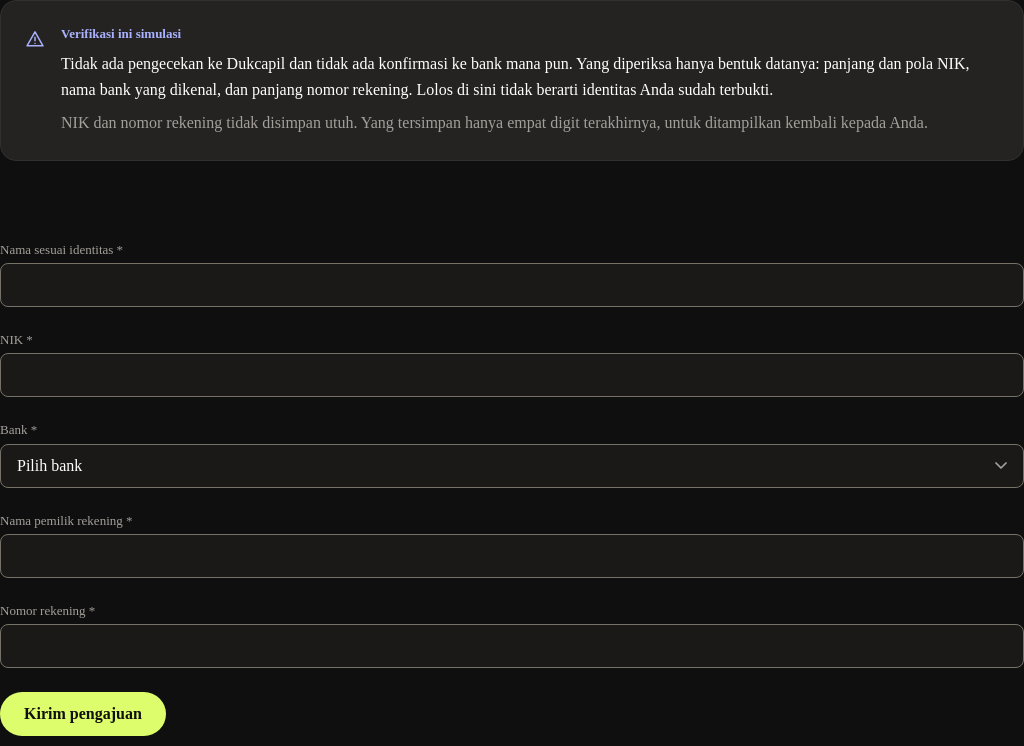
kyc form submission › replaces the form with the summary of what was just recorded
Type "Nama Pemilik Akun" into the field labelled "Nama sesuai identitas *" at {"x": 512, "y": 285}, box x1=0 y1=263 x2=1023 y2=307
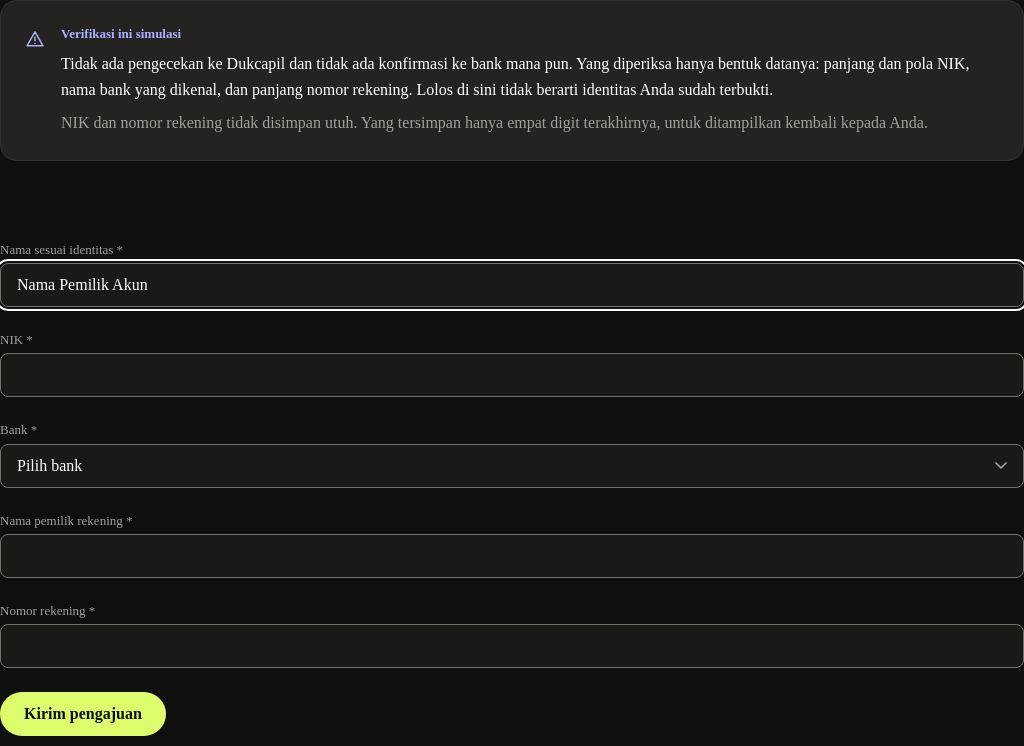
Type "3201234567890123" into the field labelled "NIK *" at {"x": 512, "y": 375}, box x1=0 y1=353 x2=1023 y2=397
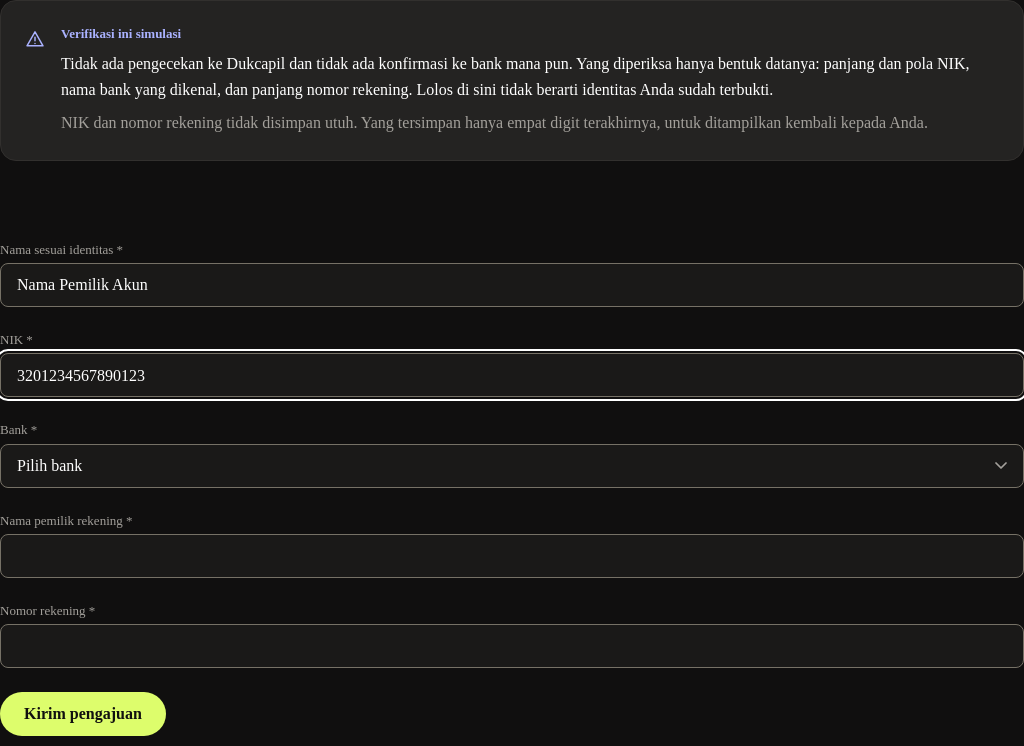
Select "BCA" in the dropdown labelled "Bank *" at {"x": 512, "y": 466}, box x1=0 y1=444 x2=1023 y2=488
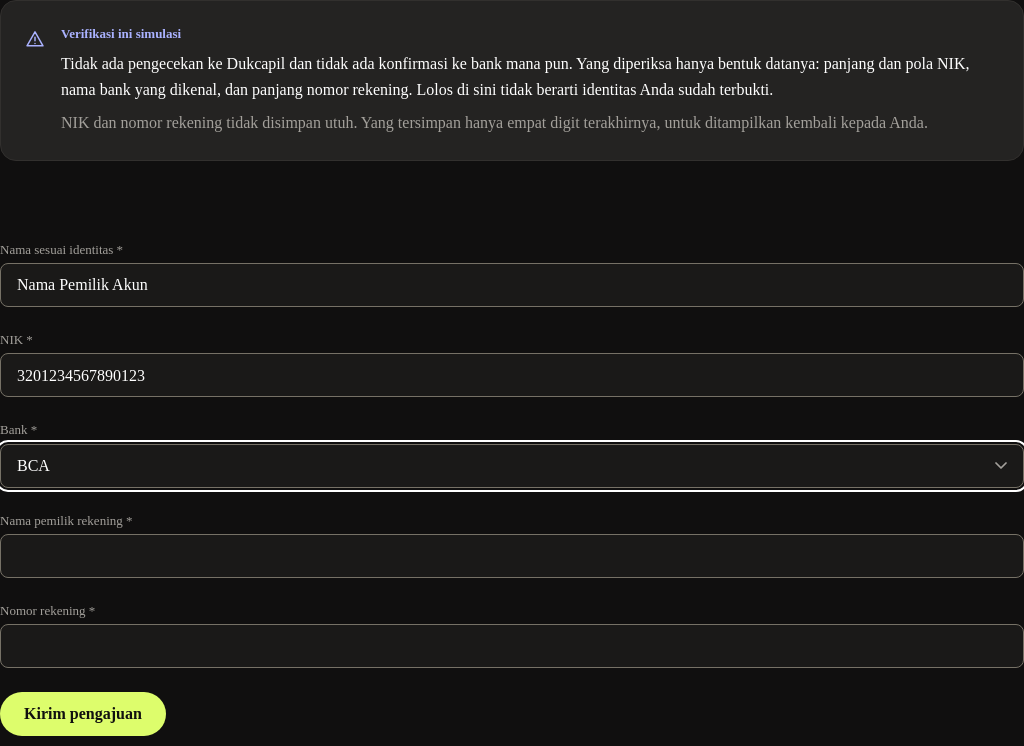
Type "Nama Pemilik Rekening" into the field labelled "Nama pemilik rekening *" at {"x": 512, "y": 556}, box x1=0 y1=534 x2=1023 y2=578
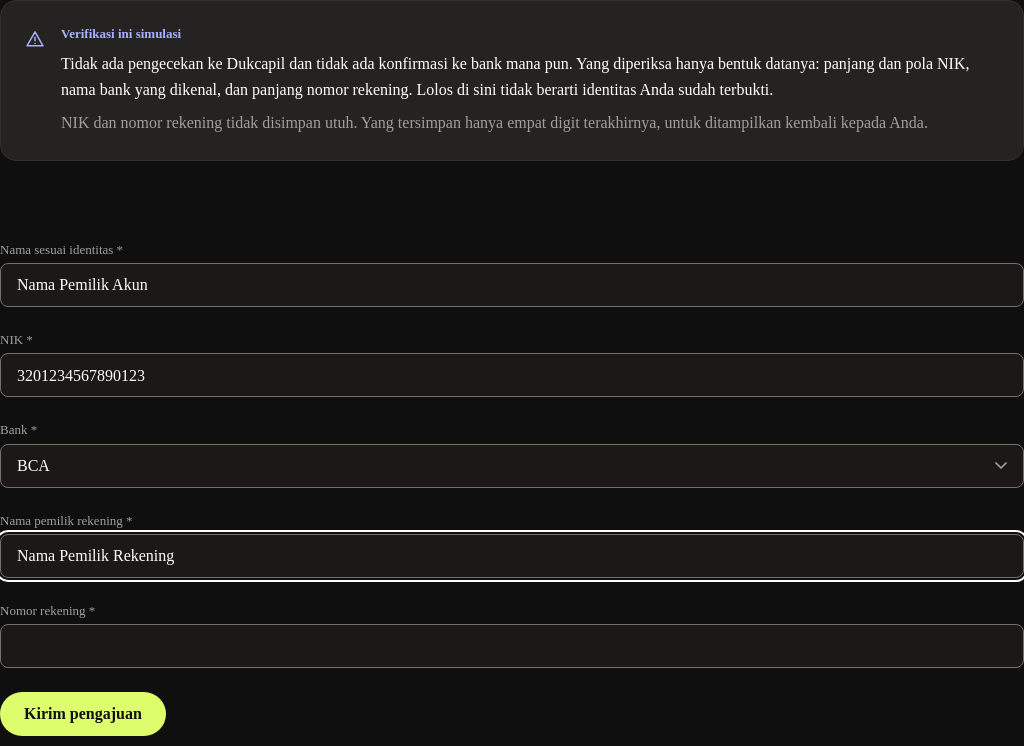
Type "1234567890" into the field labelled "Nomor rekening *" at {"x": 512, "y": 646}, box x1=0 y1=624 x2=1023 y2=668
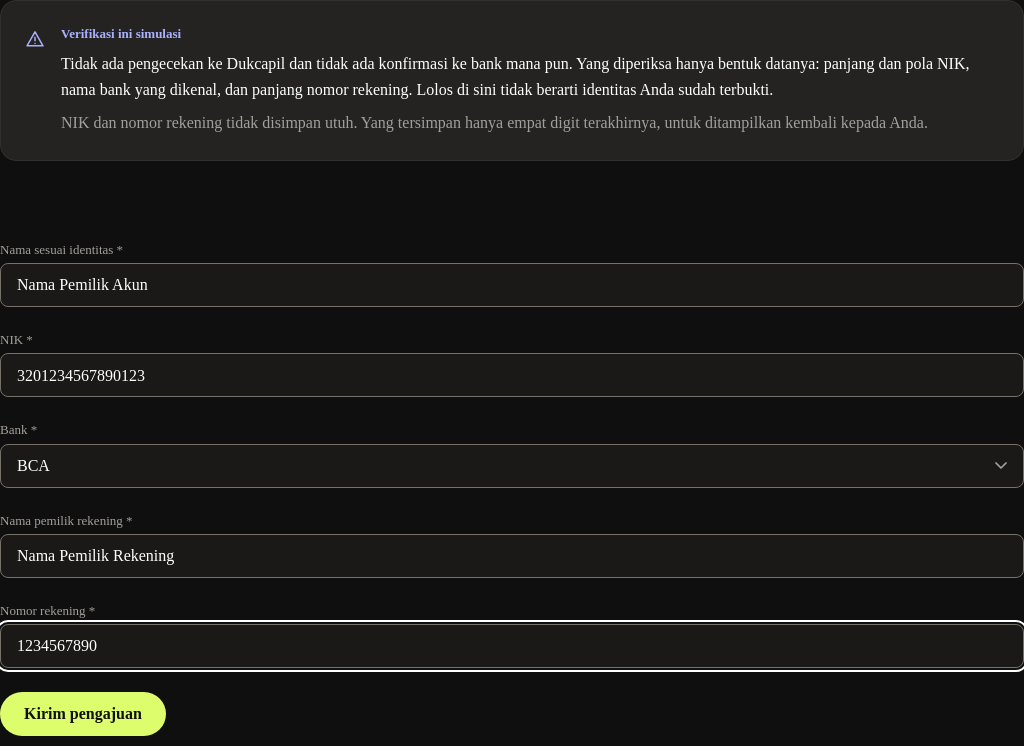
Click the button "Kirim pengajuan" at {"x": 83, "y": 714}, box x1=0 y1=692 x2=166 y2=736
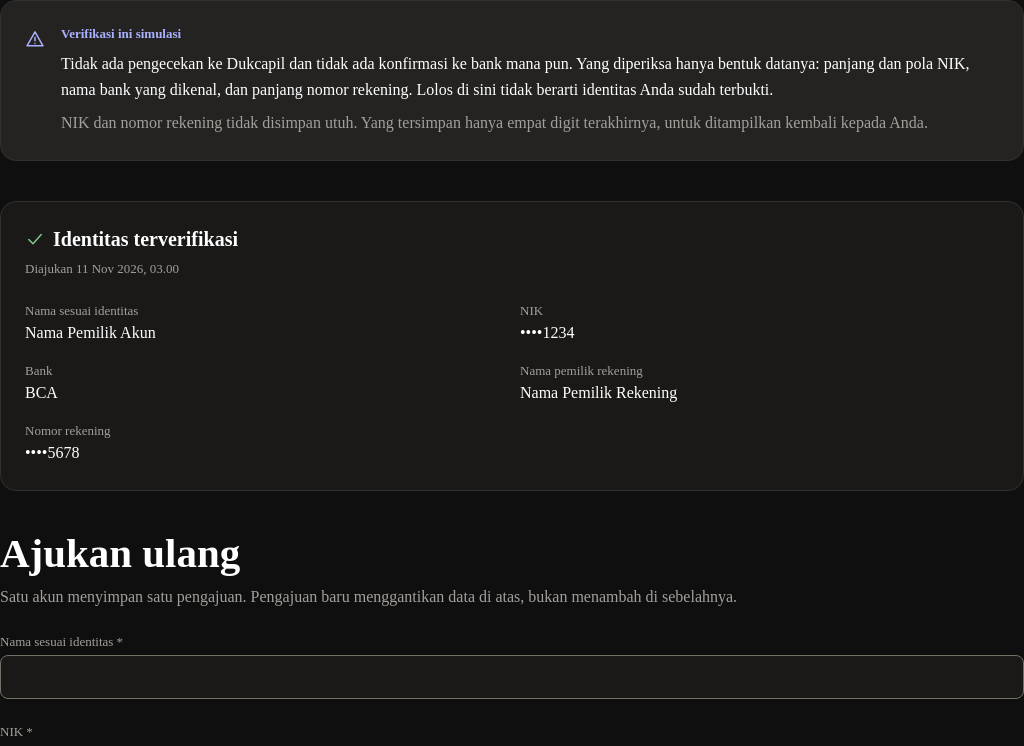
expect the heading "Identitas terverifikasi" is shown: met, box x1=53 y1=226 x2=238 y2=252
